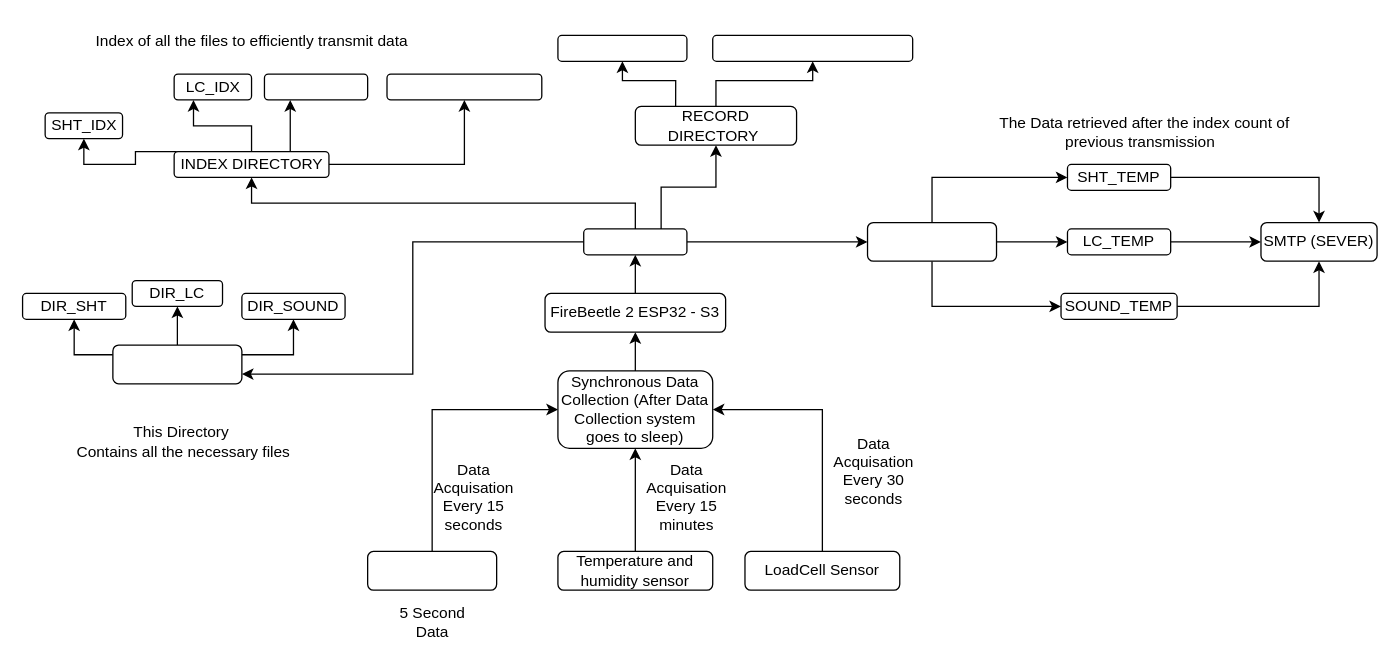
The diagram is 1400 pixels wide and 663 high, and some of its shapes have lost their labels. The centre of each missing label's shape, as x and y in pixels:
Acoustic Sensor: pixel 431 570
AUDIO_TIME_DIR: pixel 622 47
BOOTCOUNT_IDX: pixel 464 86
MAIN DATA DIRECTORY: pixel 177 364
SD Card: pixel 634 241
SOUND_IDX: pixel 315 86
TEMPORARY DIRECTORY: pixel 931 241
TRANSMISSION_DETAILS: pixel 812 47
